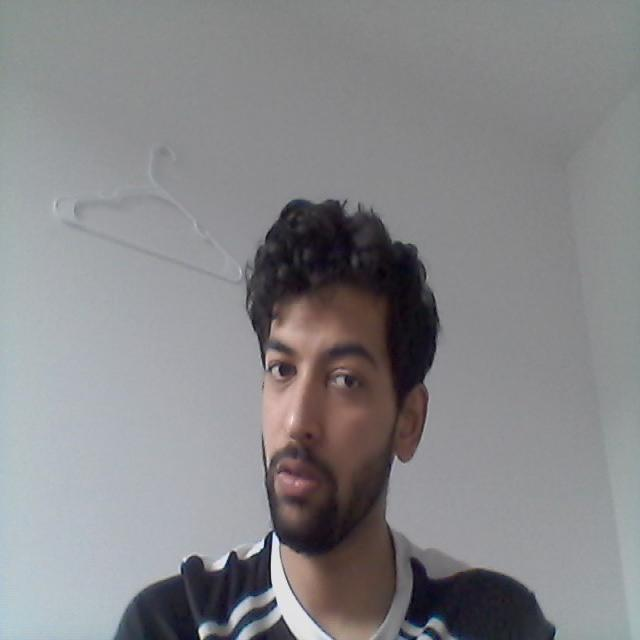nocap: (231, 172, 456, 433)
